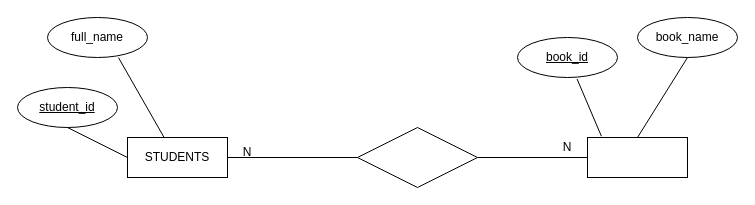
Some shapes in this 755 by 205 pixel diagram are drawn without their labels. The shapes that lost their labels are listed below. From the top down, each one's centre as x and y in pixels, then its label:
the point at 417,157: borrow
the point at 637,157: BOOKS
